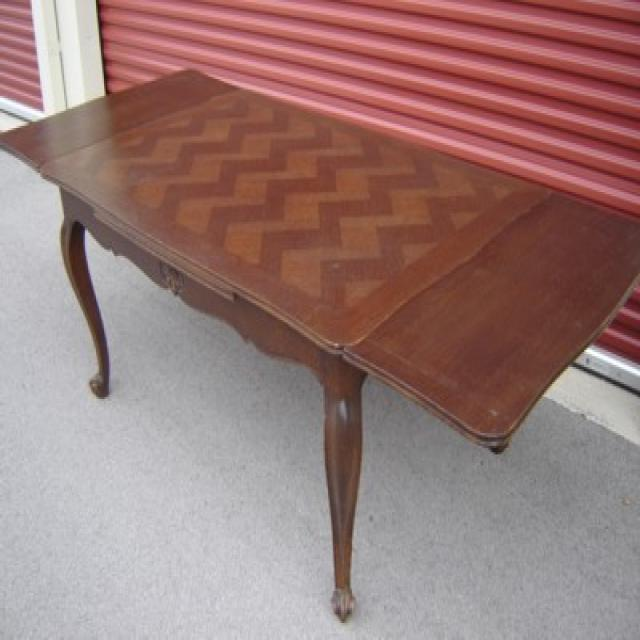table: (0, 64, 640, 633)
